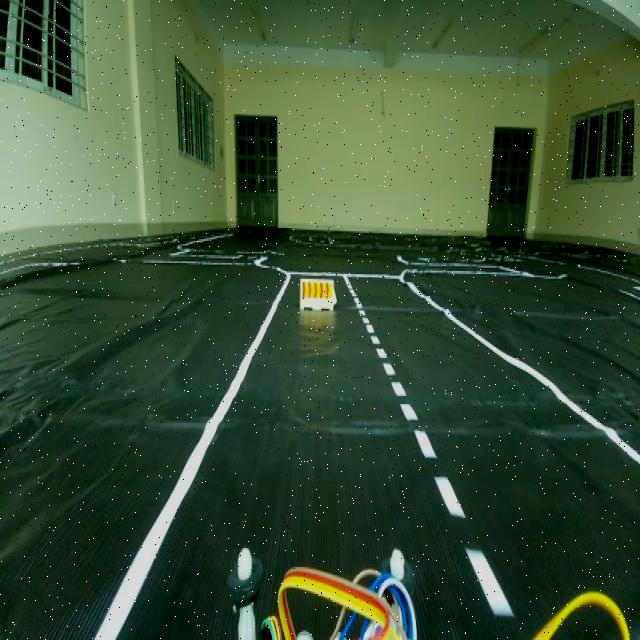roadblock: (296, 266, 340, 323)
